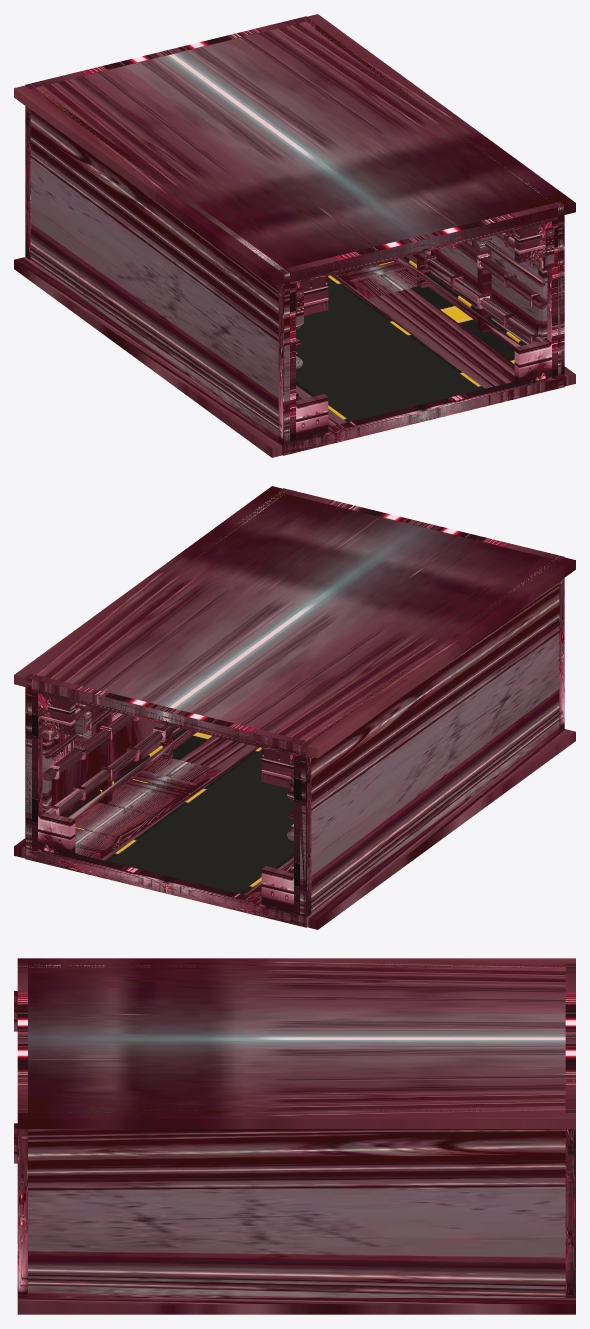
The model's file is hangar_ic_koridor_kristal.glb.
3 renders of one model, top to bottom at view 1: azimuth 30°, elevation 25°; view 2: azimuth 150°, elevation 25°; view 3: azimuth 270°, elevation 25°, orthographic. The views are drawn at different scales.
Parts seen in each view (by area): view 1: LOD0_koridor; view 2: LOD0_koridor; view 3: LOD0_koridor.
Part boxes in pixels (bbox=[...]): LOD0_koridor: bbox=[14, 14, 575, 457]; LOD0_koridor: bbox=[14, 486, 575, 929]; LOD0_koridor: bbox=[14, 958, 575, 1314].
Size of the model in its own units: 10.2 by 5.84 by 15.1.
1 material, 1 textured.
